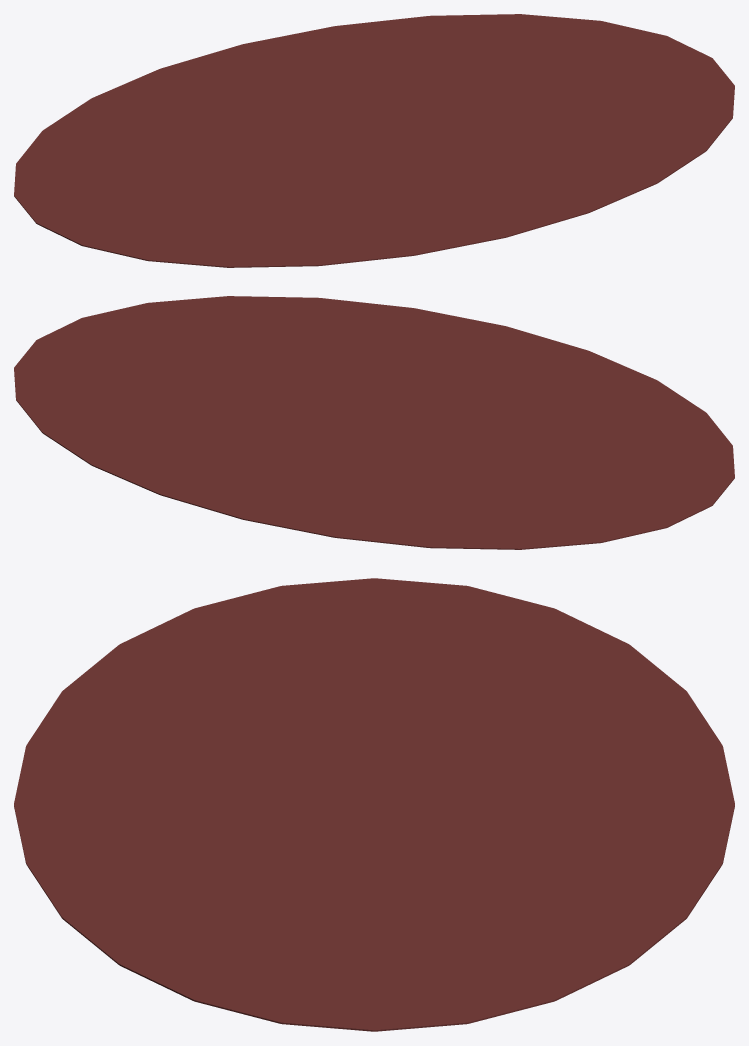
File: Carpet.fbx
3 views of the same model, one above another, from view 1: azimuth 30°, elevation 25°; view 2: azimuth 150°, elevation 25°; view 3: azimuth 270°, elevation 25° (orthographic). The views are drawn at different scales.
Parts seen in each view (by area): view 1: Carpet; view 2: Carpet; view 3: Carpet.
Boxes of the visible parts, <box> form: Carpet: <box>14,14,734,267</box>; Carpet: <box>14,296,734,549</box>; Carpet: <box>14,578,734,1031</box>.
Bounding box in the file's own units: 503 × 0.7615 × 339.
